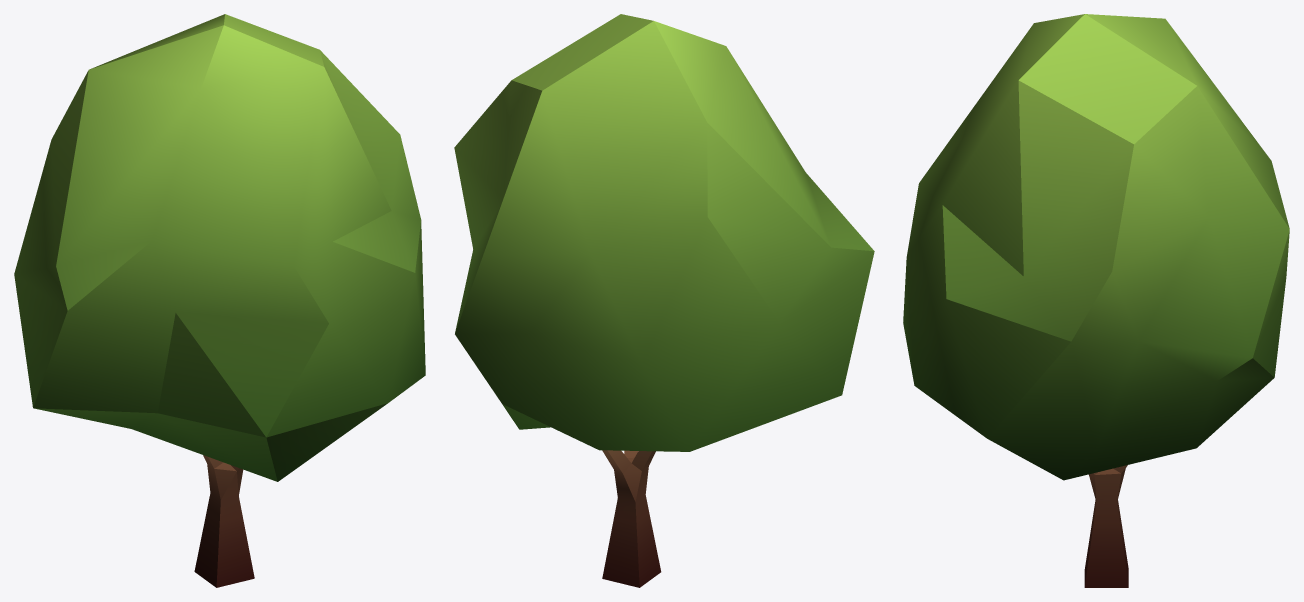
Rendered from oak2.fbx.
3 renders of one model, left to right at view 1: azimuth 30°, elevation 25°; view 2: azimuth 150°, elevation 25°; view 3: azimuth 270°, elevation 25°, orthographic. The views are drawn at different scales.
Parts seen in each view (by area): view 1: Cube; view 2: Cube; view 3: Cube.
Boxes of the visible parts, x1=… form: Cube: x1=14, y1=14, x2=425, y2=587; Cube: x1=454, y1=14, x2=874, y2=587; Cube: x1=903, y1=14, x2=1289, y2=587.
Size of the model in its own units: 819 by 1149 by 720.
2 materials, 2 textured.
